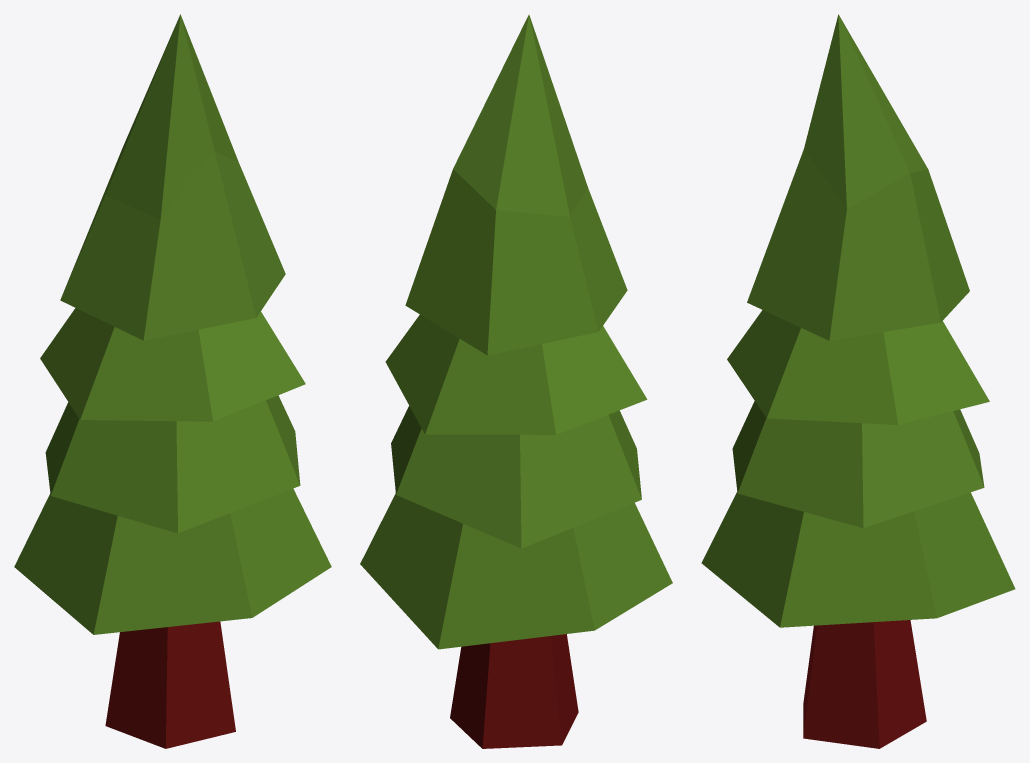
Rendered from tree_pine.glb.
3 views of the same model, side by side, from view 1: azimuth 30°, elevation 25°; view 2: azimuth 150°, elevation 25°; view 3: azimuth 270°, elevation 25° (orthographic).
Visible parts, largest first — view 1: ConeTree; view 2: ConeTree; view 3: ConeTree.
Boxes of the visible parts, left/top/right/bottom form: ConeTree: left=14, top=14, right=331, bottom=748; ConeTree: left=360, top=14, right=672, bottom=748; ConeTree: left=701, top=14, right=1015, bottom=748.
Bounding box in the file's own units: 0.7262 × 1.98 × 0.8002.
1 material, 1 textured.
